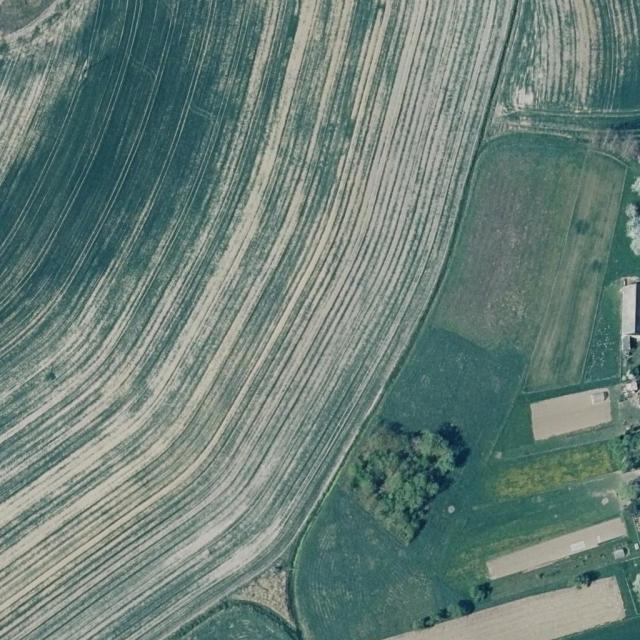agricultural_land: (426, 447, 633, 594), (411, 328, 526, 552), (383, 575, 628, 640), (484, 540, 627, 614), (484, 515, 630, 584), (486, 437, 615, 506), (171, 569, 298, 639), (526, 386, 617, 442), (403, 327, 450, 431), (584, 280, 621, 384), (383, 352, 418, 429), (490, 402, 536, 454), (0, 0, 55, 34), (584, 356, 621, 387)
greenland: (329, 389, 479, 548), (410, 595, 478, 632), (475, 582, 494, 600)
